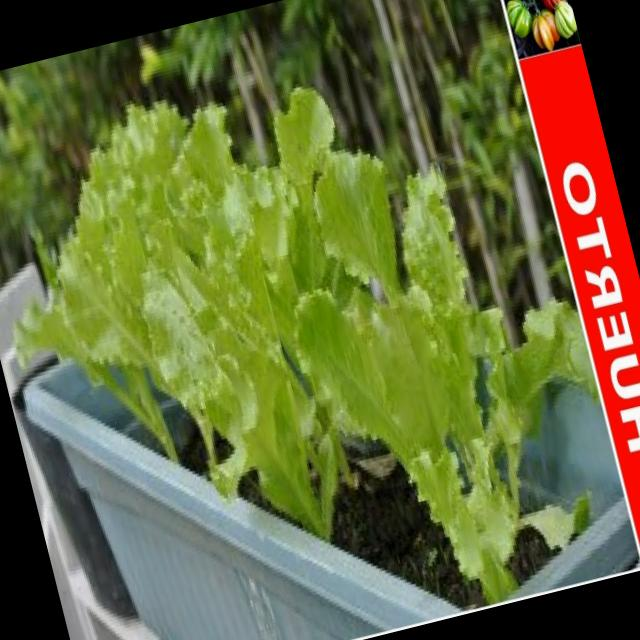inmadura: (295, 151, 600, 605), (142, 88, 347, 539)
